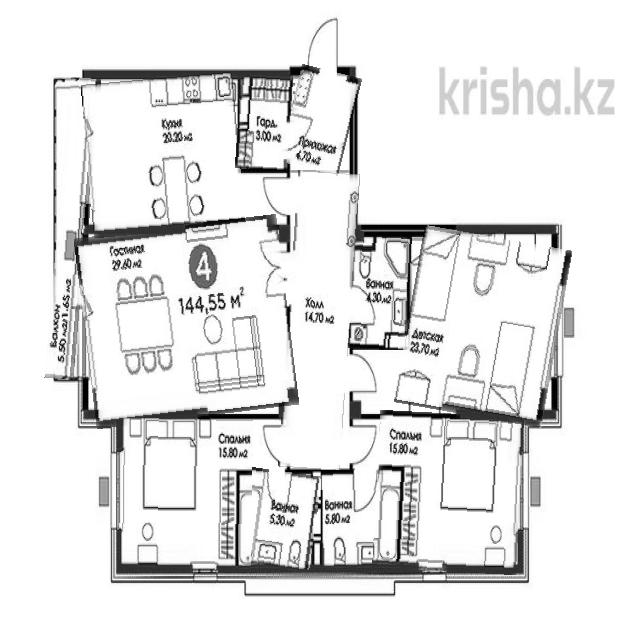balcony: (50, 78, 95, 380)
bathroom: (235, 469, 319, 570), (322, 470, 403, 567), (350, 232, 410, 349)
hallway: (284, 171, 356, 470), (284, 67, 357, 173)
kitchen: (84, 75, 242, 235)
living_room: (80, 220, 294, 424), (401, 231, 565, 423), (374, 412, 522, 574), (120, 418, 252, 570)
other: (237, 73, 291, 170)
